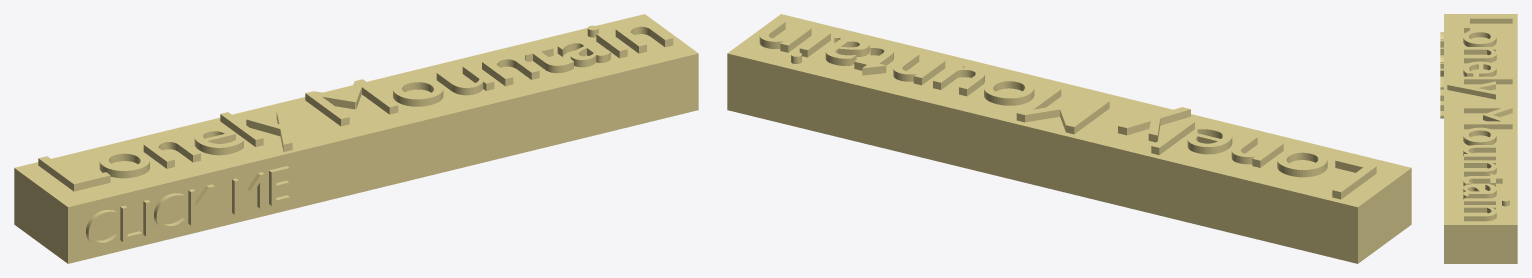
File: lon.glb
3 renders of one model, left to right at view 1: azimuth 30°, elevation 25°; view 2: azimuth 150°, elevation 25°; view 3: azimuth 270°, elevation 25°, orthographic. The views are drawn at different scales.
Parts seen in each view (by area): view 1: 文本.022; view 2: 文本.022; view 3: 文本.022.
Boxes of the visible parts, left/top/right/bottom form: 文本.022: left=14, top=14, right=698, bottom=263; 文本.022: left=727, top=14, right=1411, bottom=263; 文本.022: left=1440, top=14, right=1517, bottom=263.
Size of the model in its own units: 6.53 by 0.6328 by 1.01.
